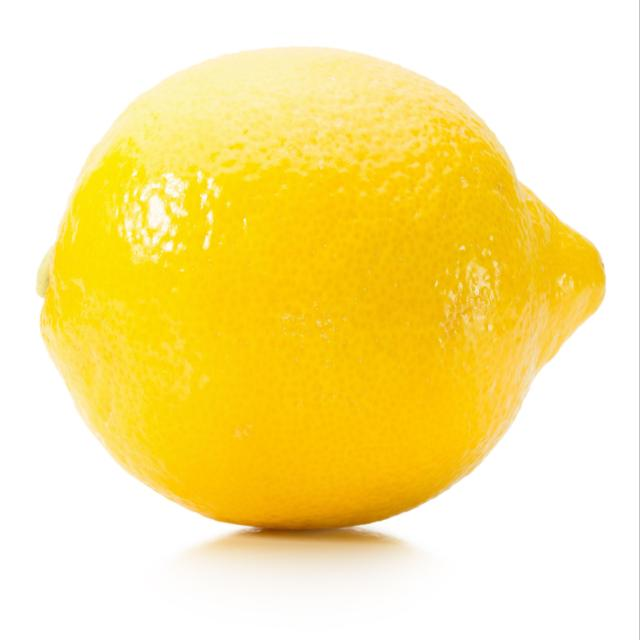lemon: (26, 38, 615, 548)
